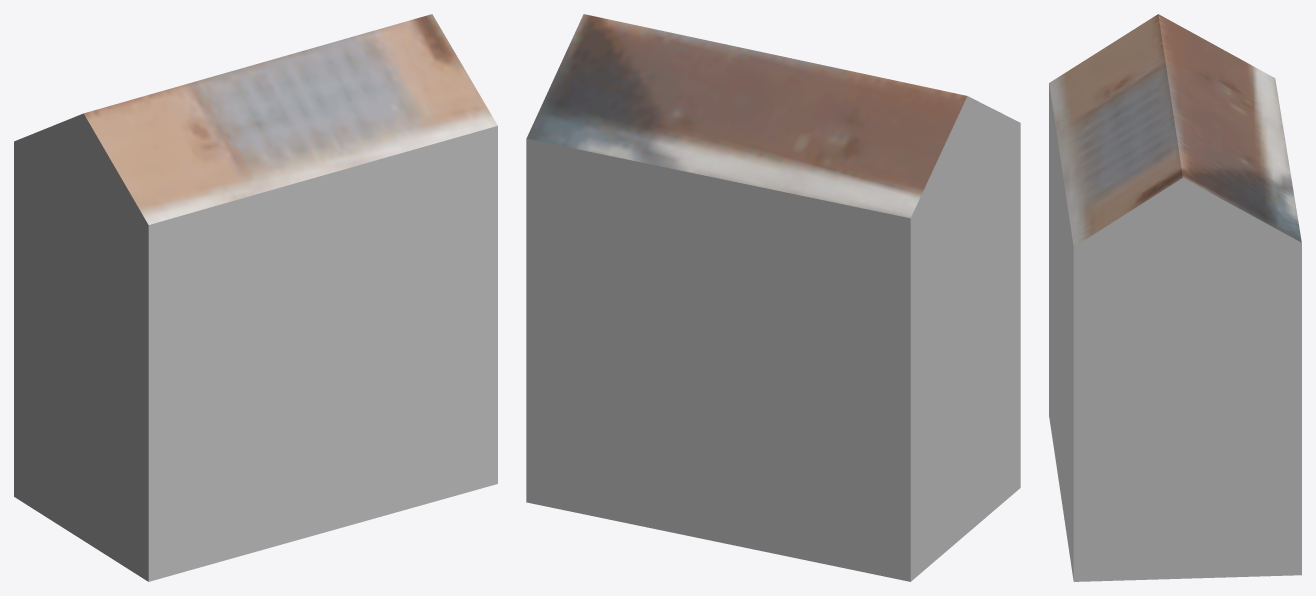
The model's file is DEBW_0010007Tx6u.gltf.
3 views of the same model, side by side, from view 1: azimuth 30°, elevation 25°; view 2: azimuth 150°, elevation 25°; view 3: azimuth 270°, elevation 25° (orthographic). The views are drawn at different scales.
Visible parts, largest first — view 1: Z_UP; view 2: Z_UP; view 3: Z_UP.
Boxes of the visible parts, bbox=[...] form: Z_UP: bbox=[14, 14, 497, 581]; Z_UP: bbox=[526, 14, 1020, 581]; Z_UP: bbox=[1049, 14, 1301, 581].
Size of the model in its own units: 16.03 by 17.47 by 9.98.
2 materials, 1 textured.
